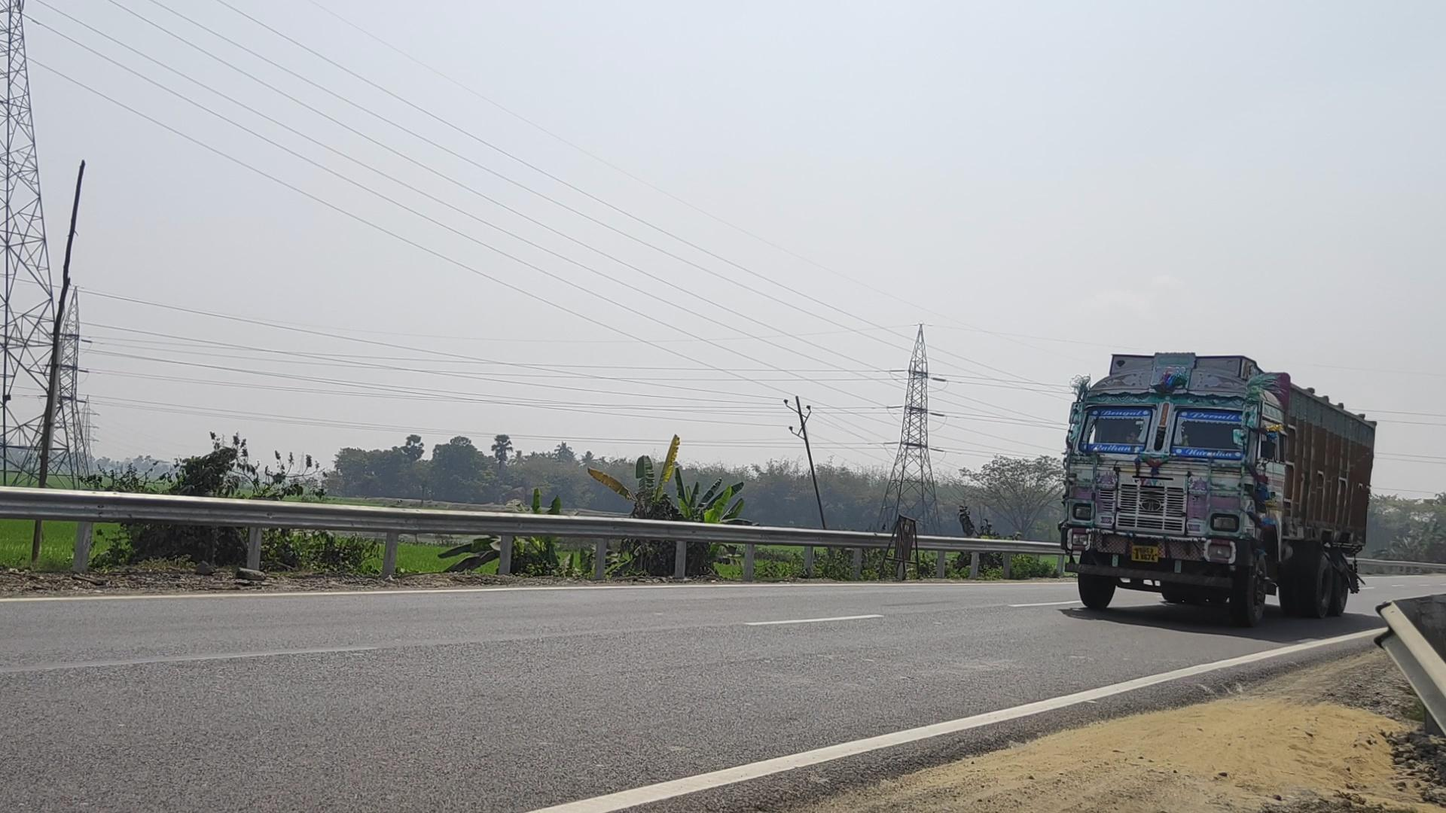truck: (1060, 351, 1377, 627)
